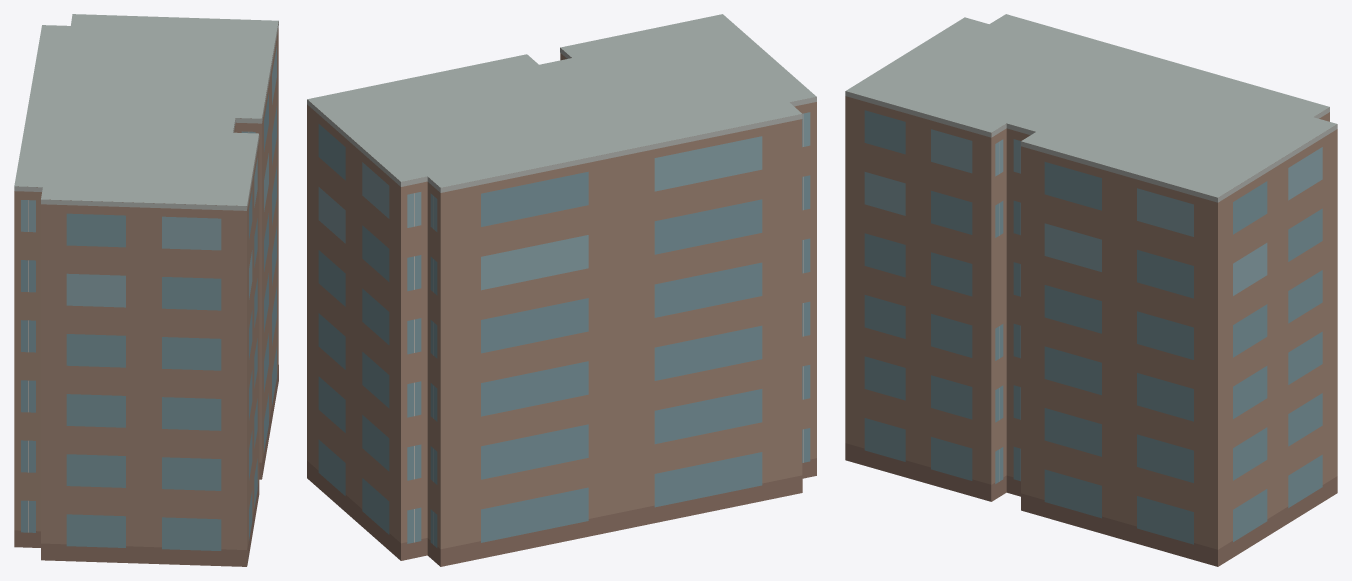
File: survey-upis-32961214.glb
3 views of the same model, side by side, from view 1: azimuth 30°, elevation 25°; view 2: azimuth 150°, elevation 25°; view 3: azimuth 270°, elevation 25° (orthographic). The views are drawn at different scales.
Visible parts, largest first — view 1: survey-upis-32961214.tmp; view 2: survey-upis-32961214.tmp; view 3: survey-upis-32961214.tmp.
Boxes of the visible parts, x1,y1,x2,y2 form: survey-upis-32961214.tmp: (14, 14, 278, 566); survey-upis-32961214.tmp: (307, 14, 816, 566); survey-upis-32961214.tmp: (845, 14, 1337, 566).
Size of the model in its own units: 19.44 by 18.2 by 22.
